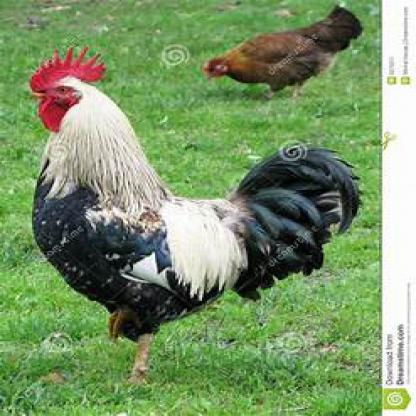chicken: (29, 45, 362, 382), (202, 4, 366, 99)
